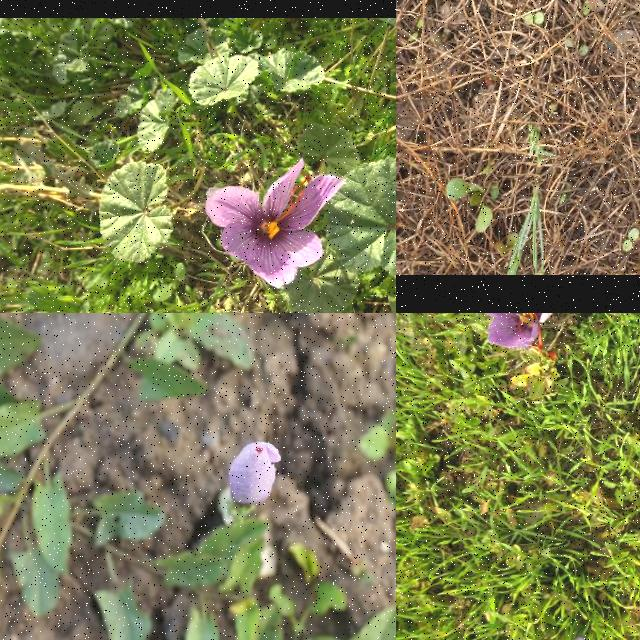flower: (206, 158, 346, 290), (470, 313, 565, 349), (228, 442, 280, 504)
